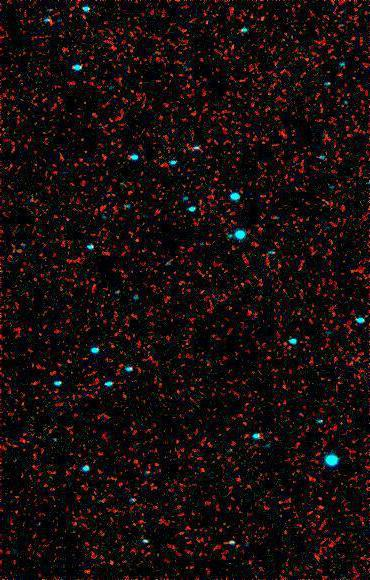star: (97, 548, 127, 578)
